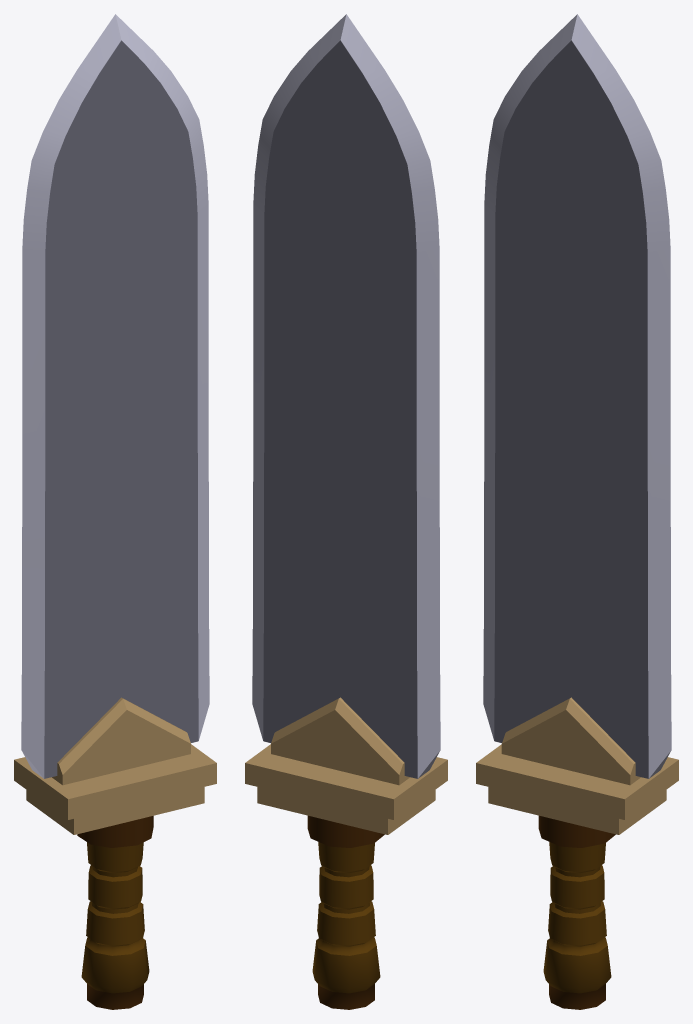
File: Broadsword.fbx
3 renders of one model, left to right at view 1: azimuth 30°, elevation 25°; view 2: azimuth 150°, elevation 25°; view 3: azimuth 330°, elevation 25°, orthographic.
Parts seen in each view (by area): view 1: Weapon_Sword_1; view 2: Weapon_Sword_1; view 3: Weapon_Sword_1.
Part boxes in pixels (x1,y1,x2,y2): Weapon_Sword_1: (14,14,216,1009); Weapon_Sword_1: (245,14,447,1009); Weapon_Sword_1: (476,14,678,1009).
Size of the model in its own units: 27.53 by 138 by 13.67.
